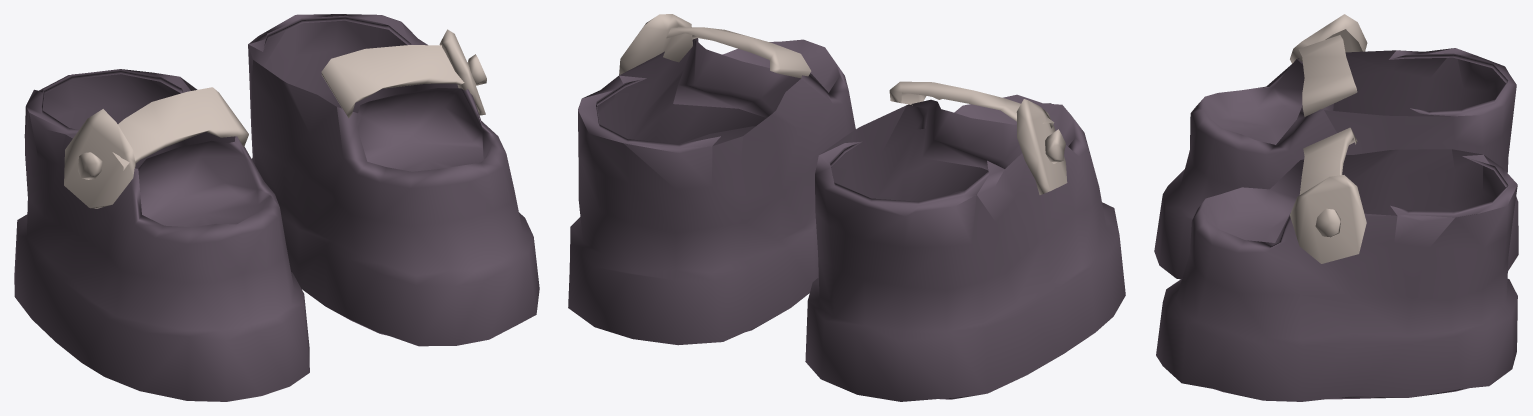
Rendered from buckle-shoes-only.glb.
The picture shows the model from 3 angles, left to right: view 1: azimuth 30°, elevation 25°; view 2: azimuth 150°, elevation 25°; view 3: azimuth 270°, elevation 25°; orthographic projection. The views are drawn at different scales.
Parts seen in each view (by area): view 1: Footwear_buckle-shoes_0, Footwear_buckle-shoes_1; view 2: Footwear_buckle-shoes_0, Footwear_buckle-shoes_1; view 3: Footwear_buckle-shoes_0, Footwear_buckle-shoes_1.
Boxes of the visible parts, box(x1,y1,x2,y2) form: Footwear_buckle-shoes_0: box(14, 14, 539, 401); Footwear_buckle-shoes_1: box(64, 29, 486, 208); Footwear_buckle-shoes_0: box(568, 38, 1125, 401); Footwear_buckle-shoes_1: box(619, 14, 1067, 194); Footwear_buckle-shoes_0: box(1154, 48, 1518, 401); Footwear_buckle-shoes_1: box(1290, 14, 1367, 263).
Bounding box in the file's own units: 0.9716 × 0.4875 × 0.761.
